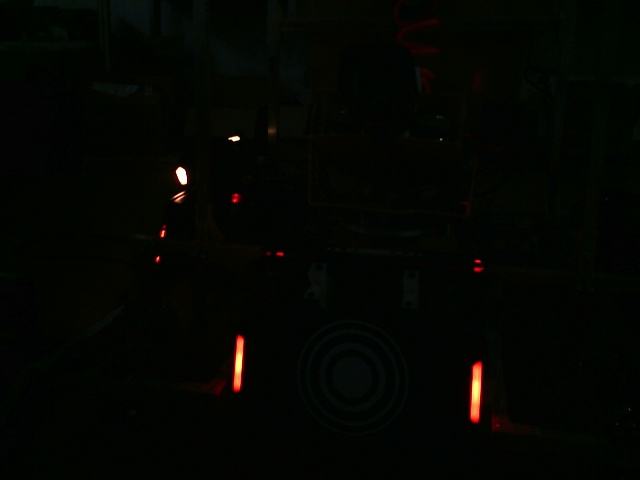lamp: (232, 333, 244, 393), (470, 360, 481, 425)
